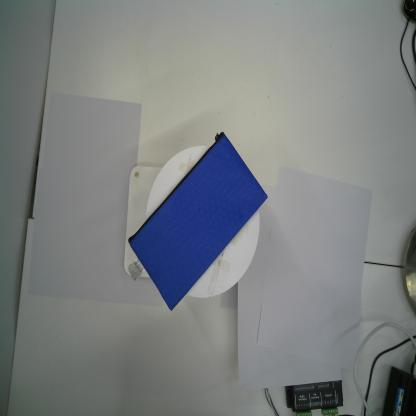Stationery: (129, 130, 268, 311)
